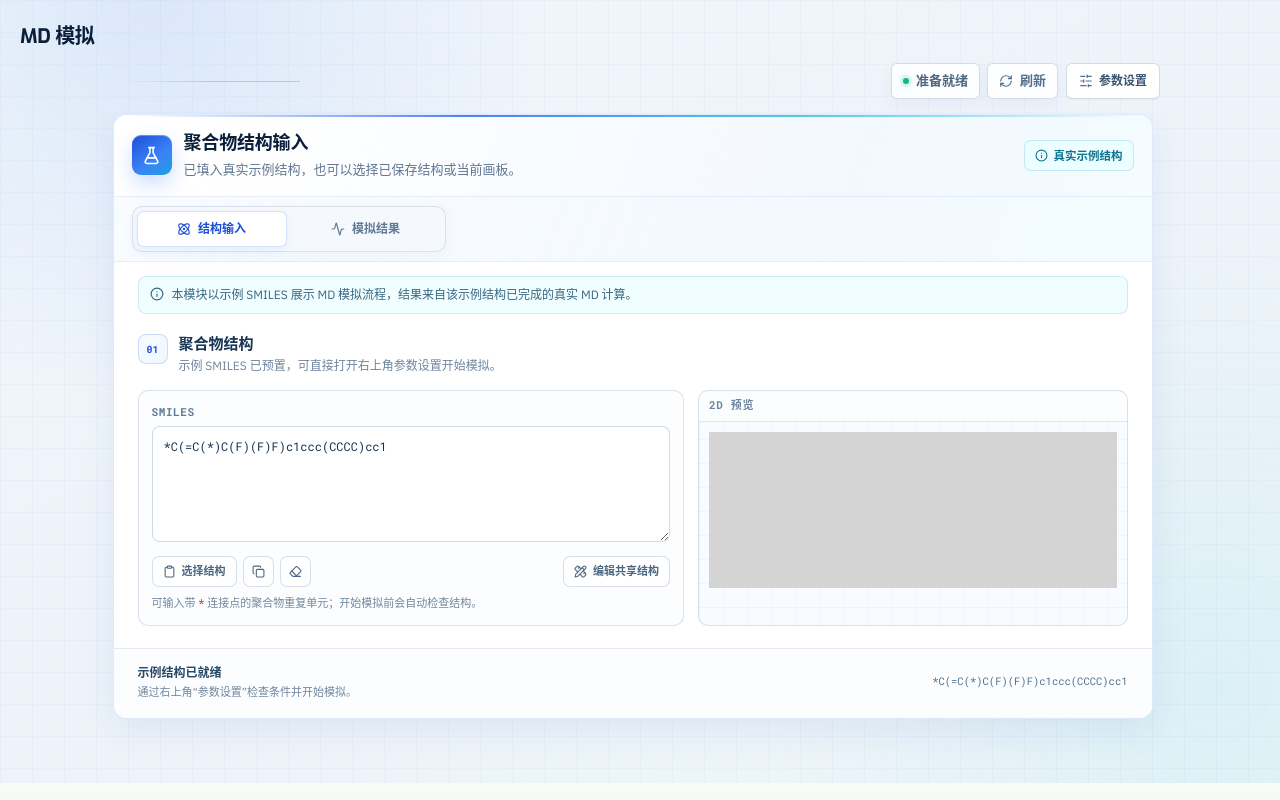
Scenario: MdSimulationDemoPage › replaces the legacy CC placeholder with the recommended example SMILES
Expected: the text box labelled "SMILES" holds "*C(=C(*)C(F)(F)F)c1ccc(CCCC)cc1", [152,426,670,542]
Click the button "参数设置" at (1113, 81), box [1066,63,1160,99]
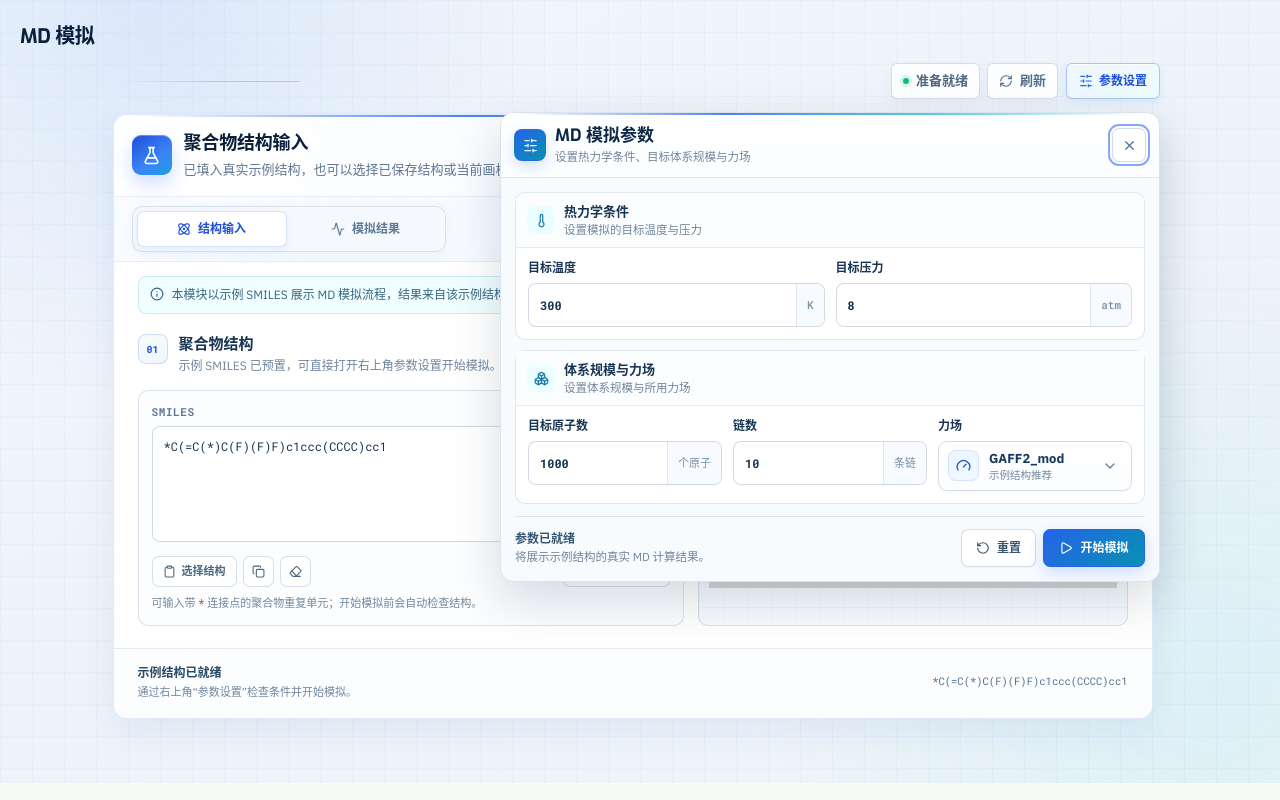
Expected: the number field labelled "目标压力 atm" holds "8", [836,284,1090,326]
Expected: the dropdown named "力场" shows "GAFF2_mod", [938,441,1132,491]
